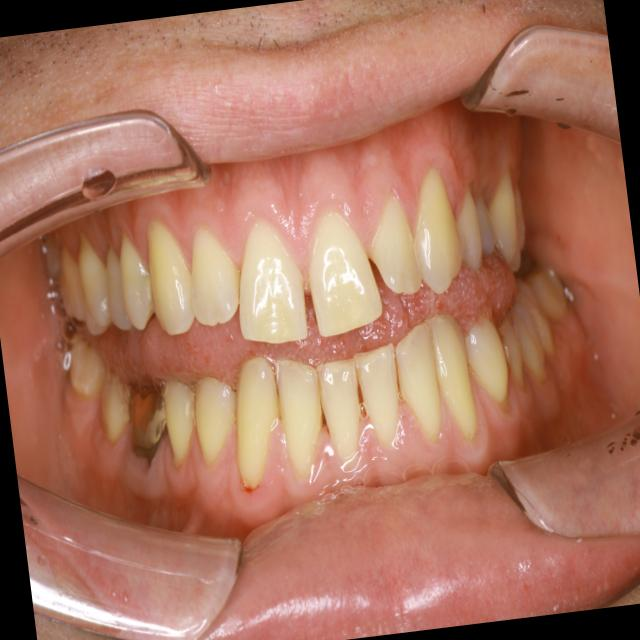tooth: (291, 194, 393, 346), (222, 211, 322, 358), (220, 348, 296, 503), (357, 171, 435, 309), (174, 209, 251, 346), (132, 217, 211, 350), (401, 151, 471, 301), (265, 348, 337, 485), (422, 305, 489, 452), (388, 321, 455, 455), (347, 340, 417, 463), (309, 353, 377, 474), (178, 364, 247, 476), (109, 221, 168, 336), (457, 306, 519, 411), (67, 228, 120, 349), (117, 380, 179, 481), (155, 370, 204, 481), (482, 170, 527, 278), (512, 274, 562, 367), (97, 242, 141, 345), (506, 298, 553, 393), (449, 177, 490, 279), (90, 365, 137, 453), (526, 263, 576, 328), (493, 311, 530, 398), (63, 330, 108, 401), (54, 248, 89, 331), (467, 181, 500, 259), (512, 183, 530, 255), (40, 241, 64, 285)
